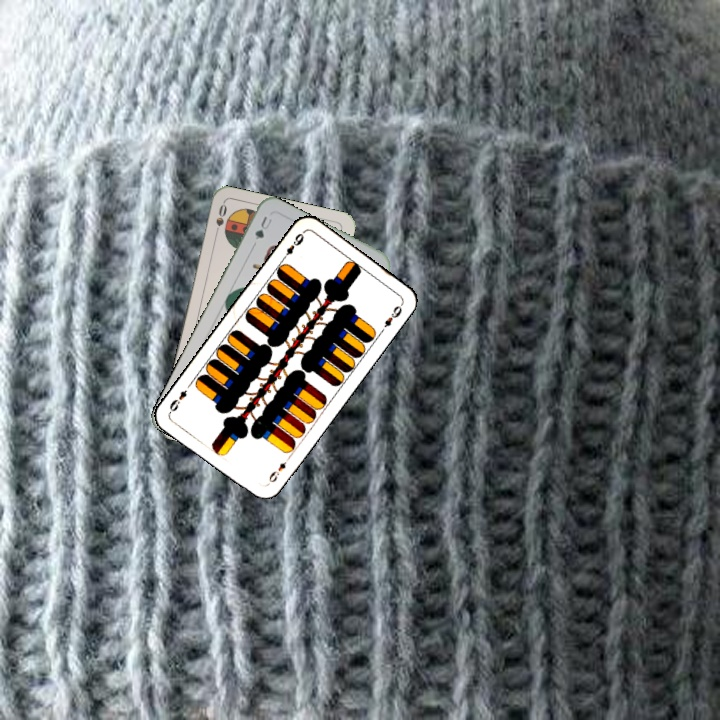E9: (278, 229, 307, 263), (264, 457, 289, 487)
GU: (251, 212, 275, 242)
SO: (211, 200, 230, 240)
